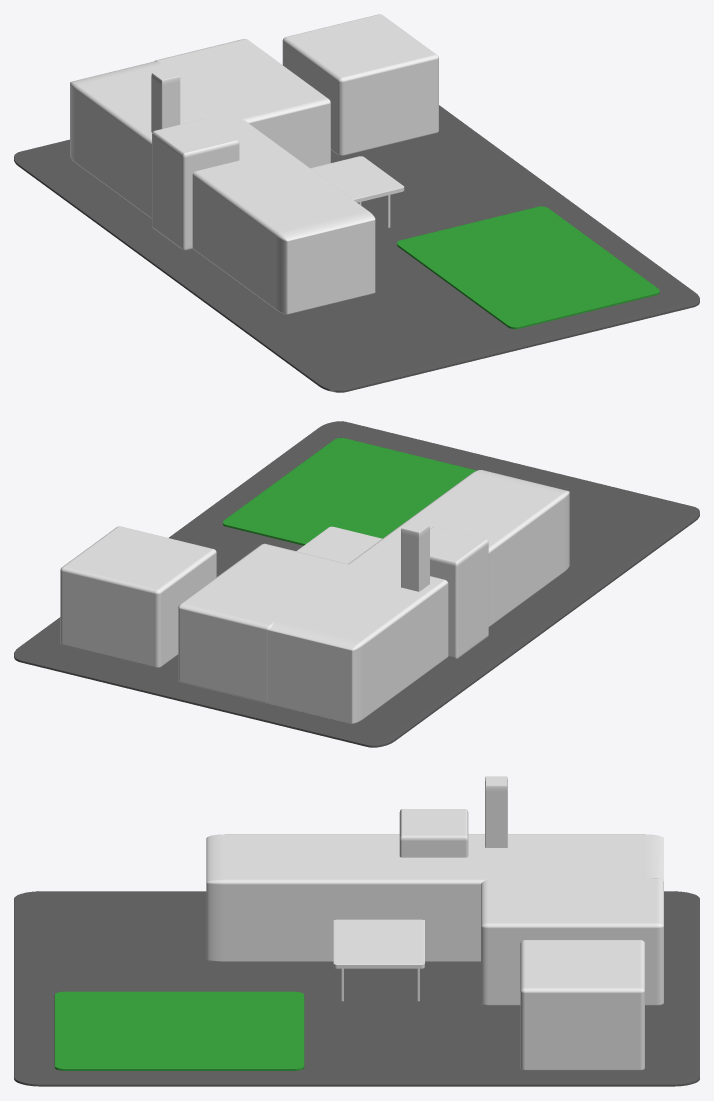
Rendered from school.glb.
3 views of the same model, one above another, from view 1: azimuth 30°, elevation 25°; view 2: azimuth 150°, elevation 25°; view 3: azimuth 270°, elevation 25° (orthographic). The views are drawn at different scales.
Visible parts, largest first — view 1: building, land, grass, Box, entrance; view 2: building, land, Box, grass, entrance; view 3: land, building, grass, Box, entrance.
Part boxes in pixels (x1=…): building: x1=70, y1=39, x2=375, y2=314; land: x1=14, y1=105, x2=699, y2=392; grass: x1=397, y1=206, x2=659, y2=329; Box: x1=282, y1=14, x2=438, y2=155; entrance: x1=310, y1=156, x2=404, y2=227; building: x1=178, y1=470, x2=569, y2=723; land: x1=14, y1=421, x2=699, y2=747; Box: x1=60, y1=526, x2=216, y2=667; grass: x1=223, y1=437, x2=476, y2=545; entrance: x1=296, y1=526, x2=382, y2=563; land: x1=14, y1=891, x2=699, y2=1086; building: x1=206, y1=776, x2=663, y2=1005; grass: x1=54, y1=991, x2=304, y2=1070; Box: x1=520, y1=940, x2=644, y2=1070; entrance: x1=333, y1=919, x2=424, y2=1001.
Size of the model in its own units: 2 by 0.7 by 3.
